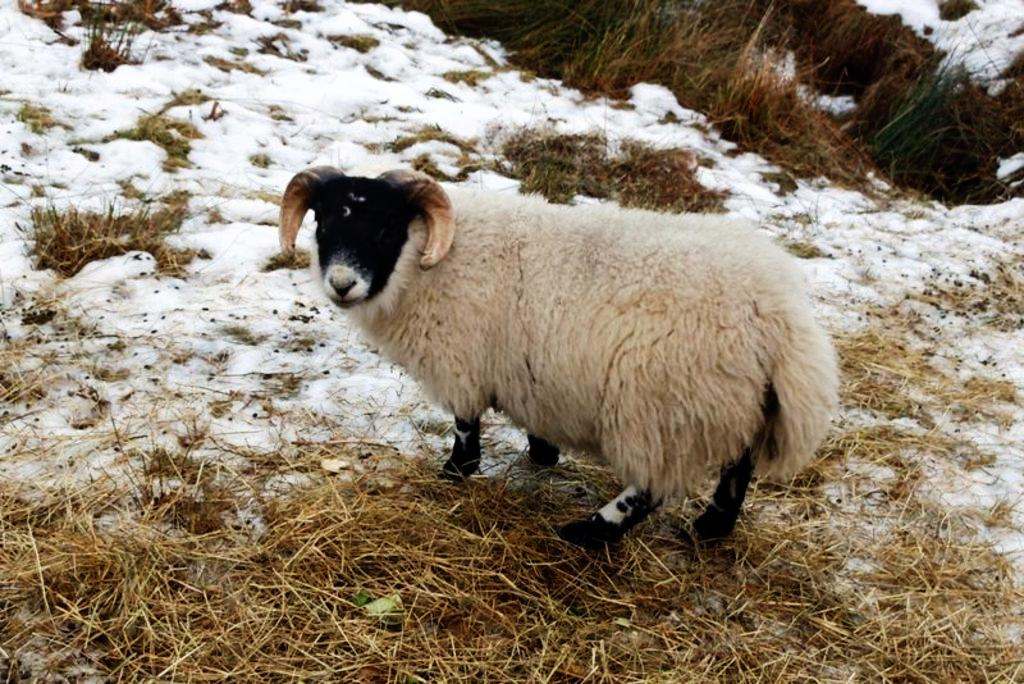Sheep: (278, 165, 840, 548)
